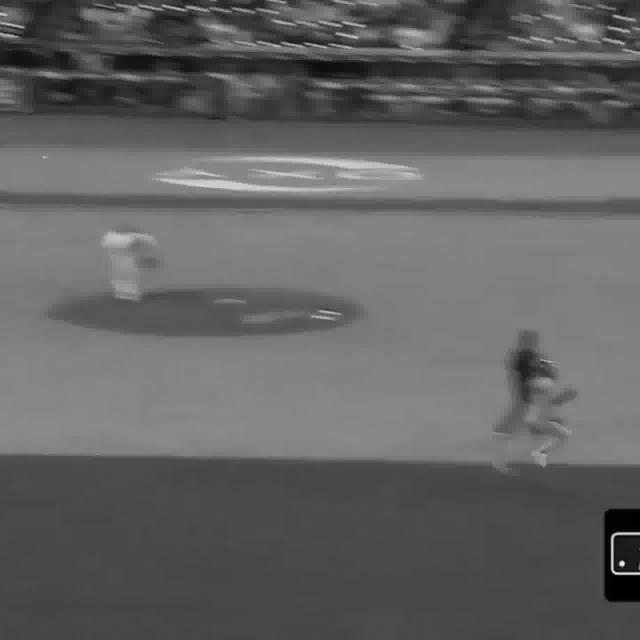baseball: (43, 153, 47, 160)
